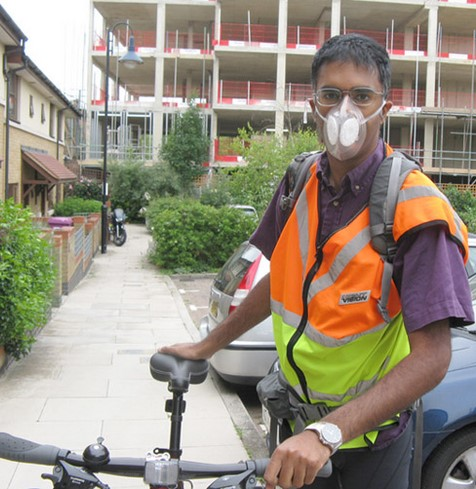face_with_mask: (308, 35, 395, 163)
